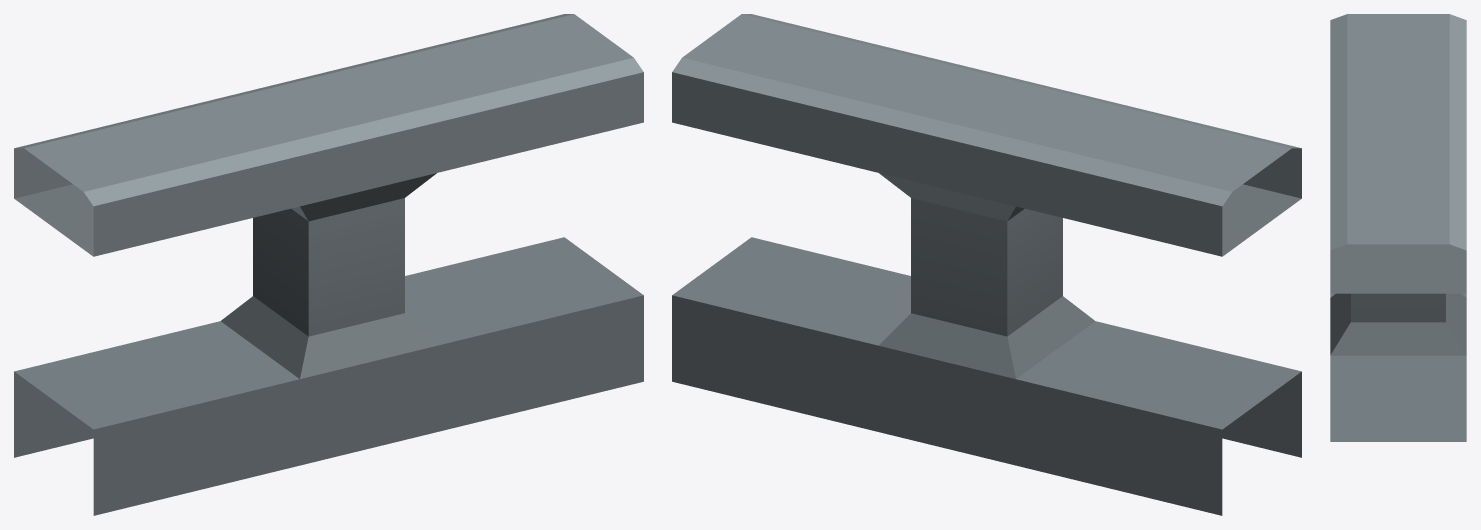
File: barrier.fbx
3 renders of one model, left to right at view 1: azimuth 30°, elevation 25°; view 2: azimuth 150°, elevation 25°; view 3: azimuth 270°, elevation 25°, orthographic. The views are drawn at different scales.
Parts seen in each view (by area): view 1: barrier_half; view 2: barrier_half; view 3: barrier_half.
Part boxes in pixels (x1=…): barrier_half: x1=14, y1=14, x2=643, y2=515; barrier_half: x1=672, y1=14, x2=1301, y2=515; barrier_half: x1=1330, y1=14, x2=1466, y2=441.
Size of the model in its own units: 200 by 110 by 50.
1 material, 1 textured.
